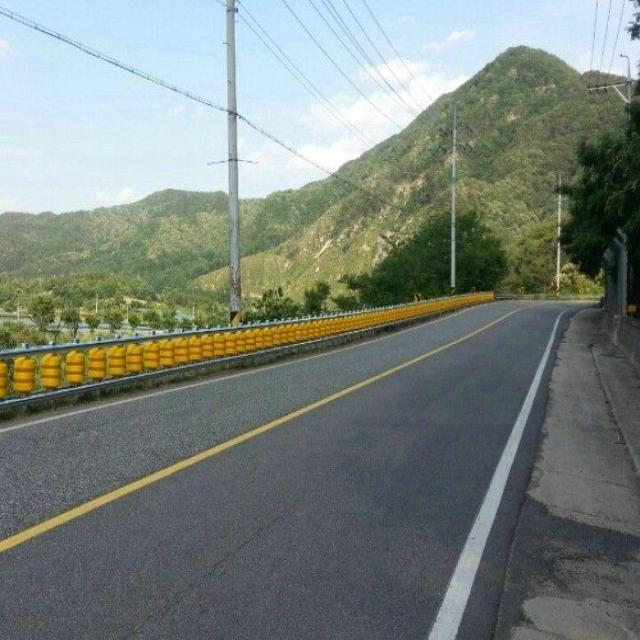streetPlate: (218, 0, 257, 330), (446, 104, 465, 299), (556, 168, 566, 300)
